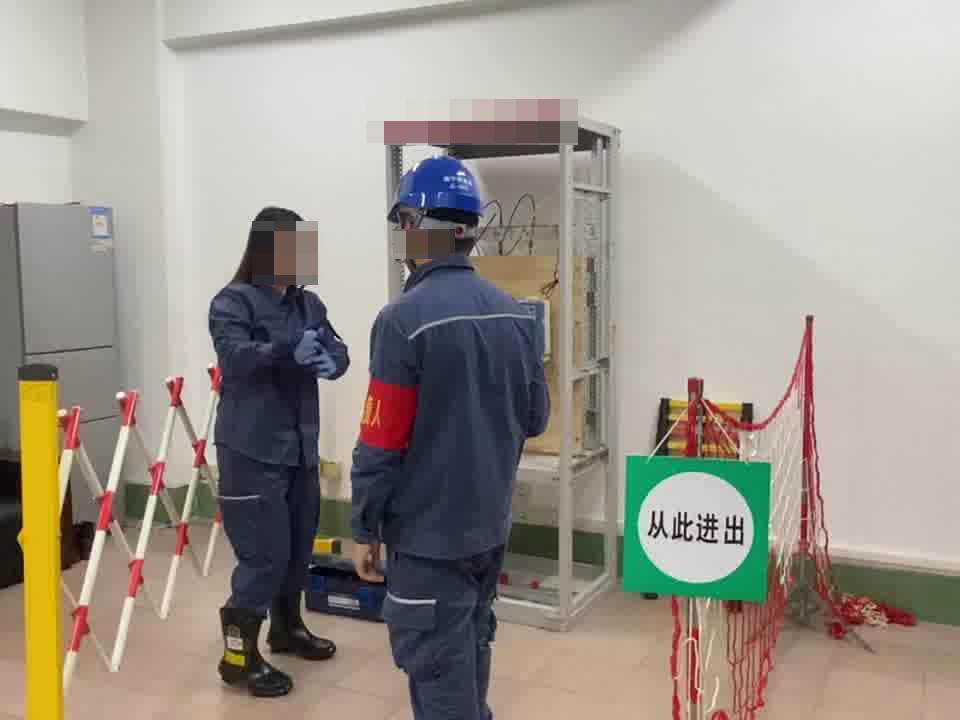badge: (359, 378, 419, 452)
downsuit: (381, 564, 510, 720), (218, 467, 324, 624)
glove: (288, 332, 318, 369), (308, 350, 338, 383)
halt: (386, 156, 490, 268), (241, 206, 318, 285)
hand: (351, 542, 385, 585)
inear: (393, 213, 427, 255)
intosign: (624, 461, 770, 596)
person: (352, 153, 553, 720), (204, 201, 349, 669)
shoe: (219, 606, 337, 686)
unhalt: (241, 206, 318, 285)
upsuit: (352, 264, 554, 556), (208, 285, 345, 456)
